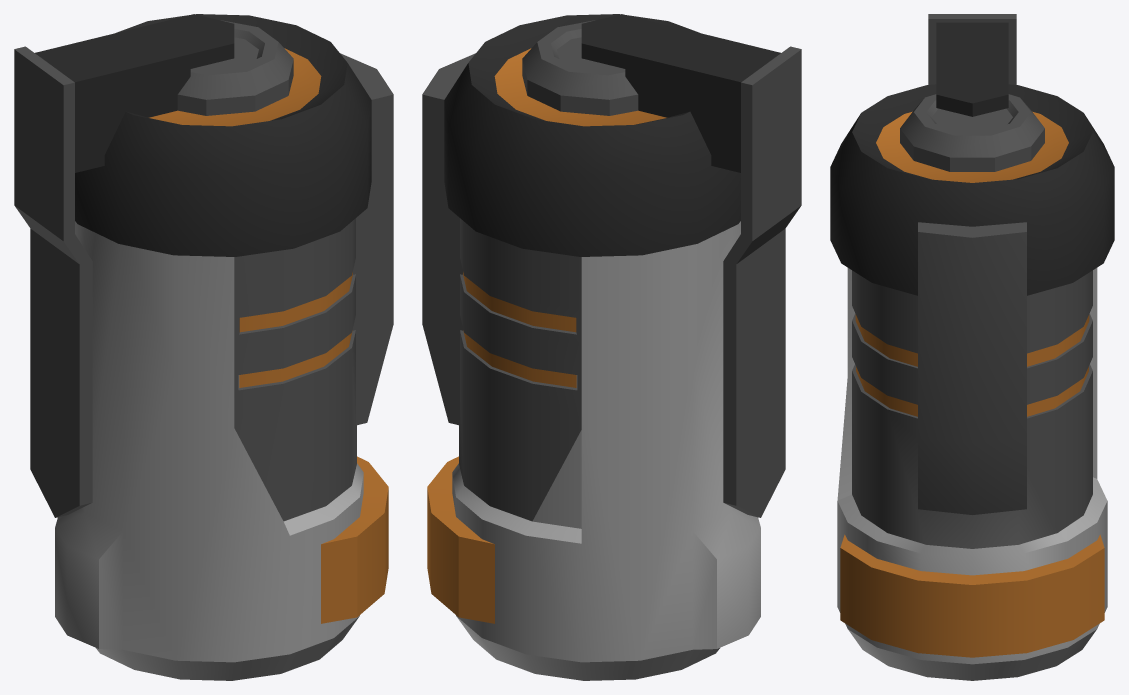
Rendered from quaternius-modular-sci-fi-guns-grenade.glb.
3 views of the same model, side by side, from view 1: azimuth 30°, elevation 25°; view 2: azimuth 150°, elevation 25°; view 3: azimuth 270°, elevation 25° (orthographic). The views are drawn at different scales.
Visible parts, largest first — view 1: Grenade; view 2: Grenade; view 3: Grenade.
Part boxes in pixels (x1,y1,x2,y2): Grenade: (14, 14, 393, 680); Grenade: (422, 14, 801, 680); Grenade: (830, 14, 1114, 680).
Size of the model in its own units: 0.1785 by 0.3033 by 0.1447.
